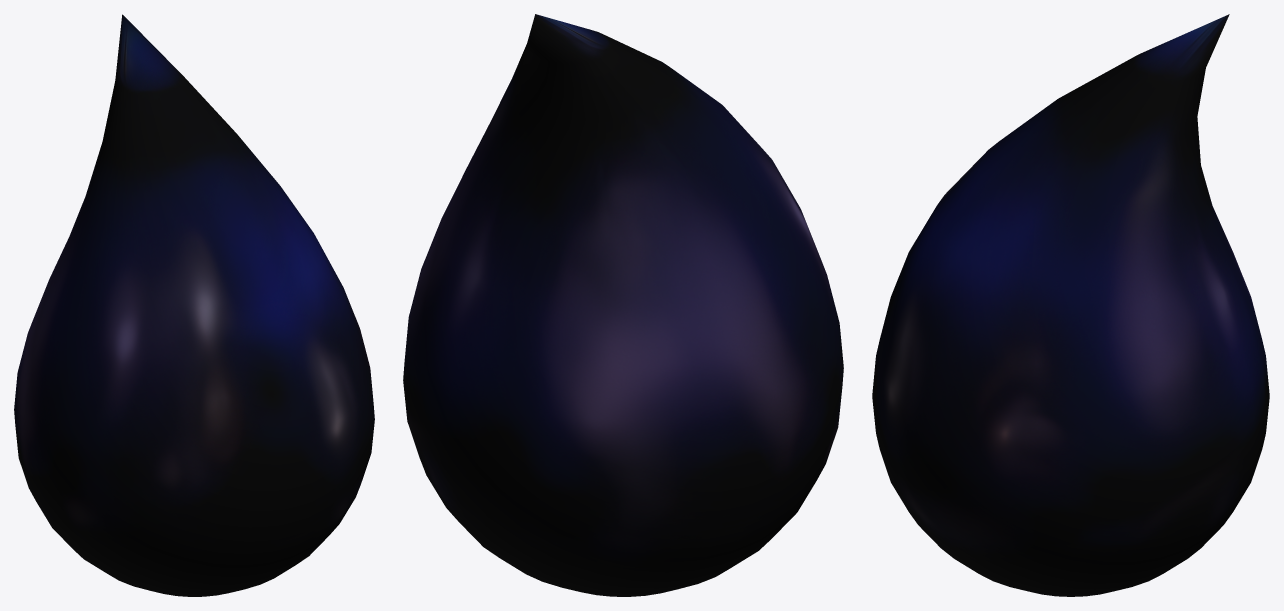
The model's file is DarkElixirDrop.obj.
3 renders of one model, left to right at view 1: azimuth 30°, elevation 25°; view 2: azimuth 150°, elevation 25°; view 3: azimuth 270°, elevation 25°, orthographic. The views are drawn at different scales.
Visible parts, largest first — view 1: Sphère; view 2: Sphère; view 3: Sphère.
Boxes of the visible parts, box(x1,y1,x2,y2) form: Sphère: box(14, 14, 374, 596); Sphère: box(403, 14, 843, 596); Sphère: box(872, 14, 1269, 596).
Bounding box in the file's own units: 2 × 3.13 × 2.
1 material, 1 textured.
